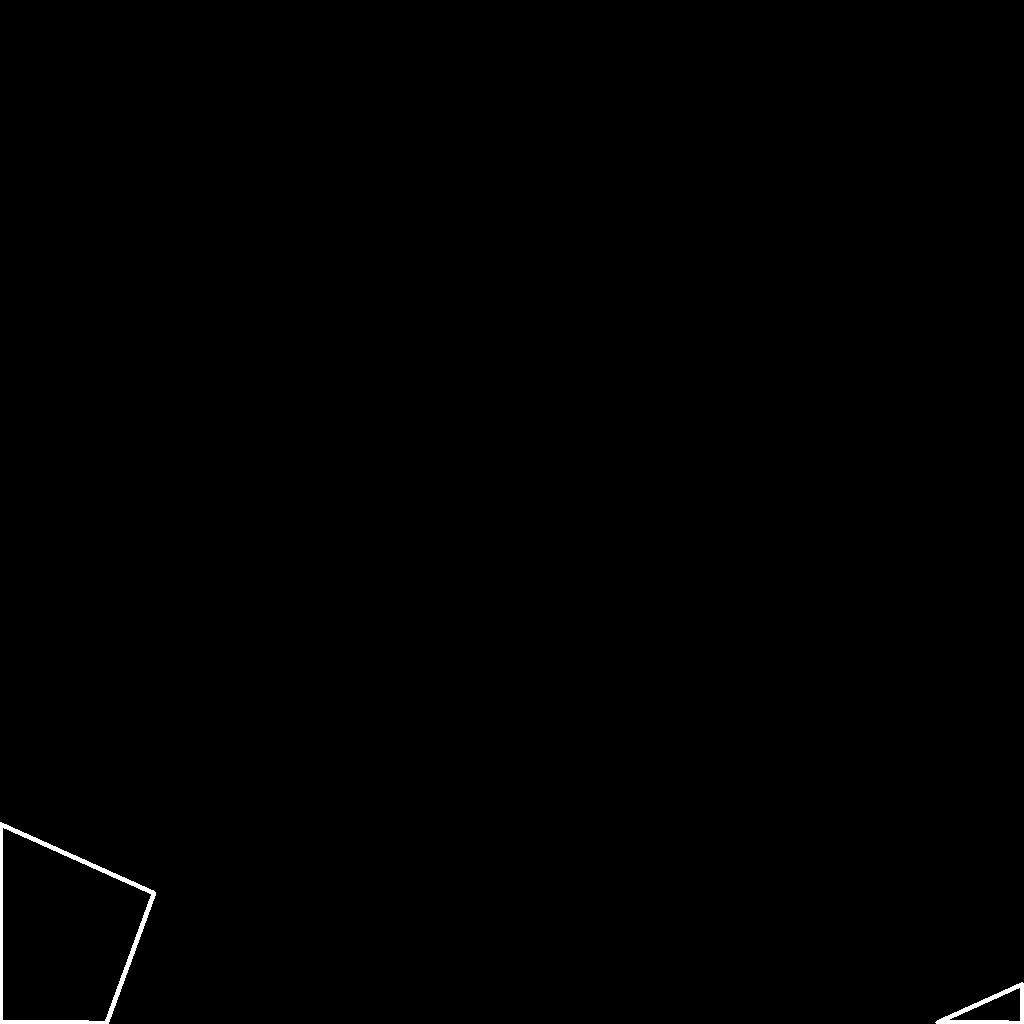building: (0, 824, 155, 1024), (936, 984, 1024, 1024)
